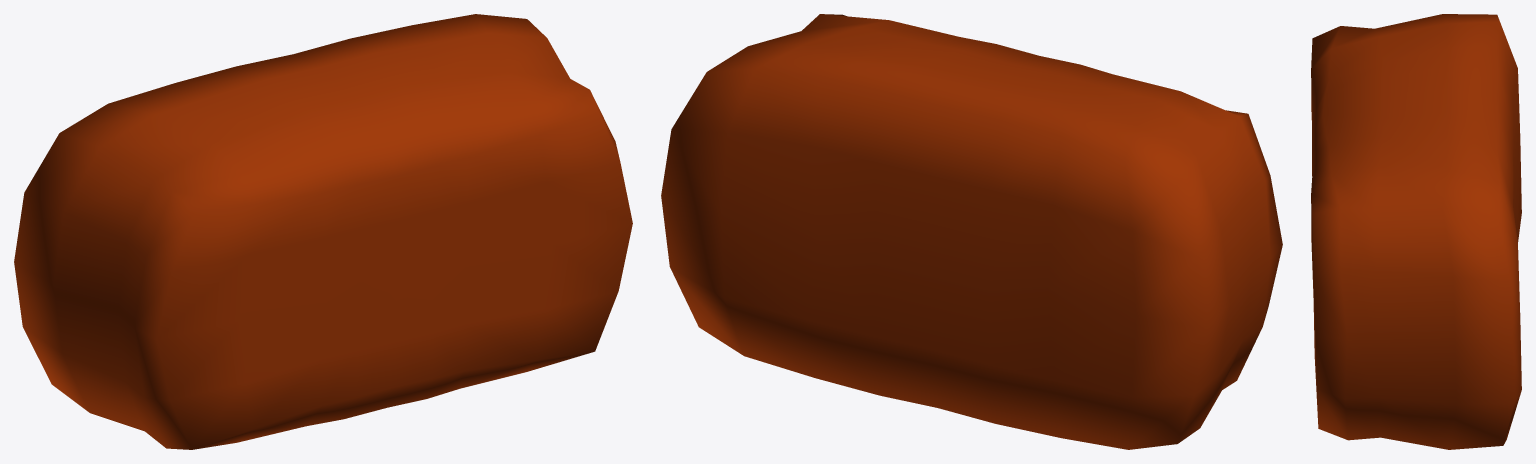
The model's file is Body2.dae.
The picture shows the model from 3 angles, left to right: view 1: azimuth 30°, elevation 25°; view 2: azimuth 150°, elevation 25°; view 3: azimuth 270°, elevation 25°; orthographic projection. The views are drawn at different scales.
Visible parts, largest first — view 1: Body2; view 2: Body2; view 3: Body2.
Boxes of the visible parts, x1=… form: Body2: x1=14, y1=14, x2=632, y2=449; Body2: x1=661, y1=14, x2=1282, y2=449; Body2: x1=1311, y1=14, x2=1521, y2=449.
Bounding box in the file's own units: 0.2659 × 0.1004 × 0.148.
